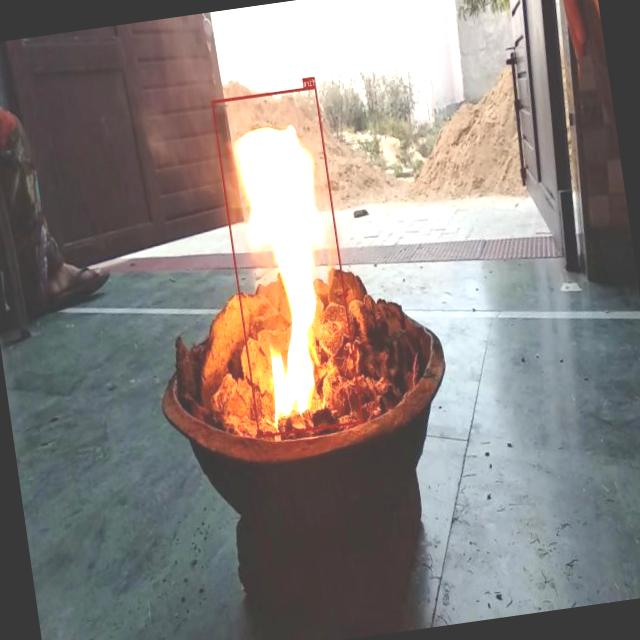fire: (212, 86, 364, 437)
